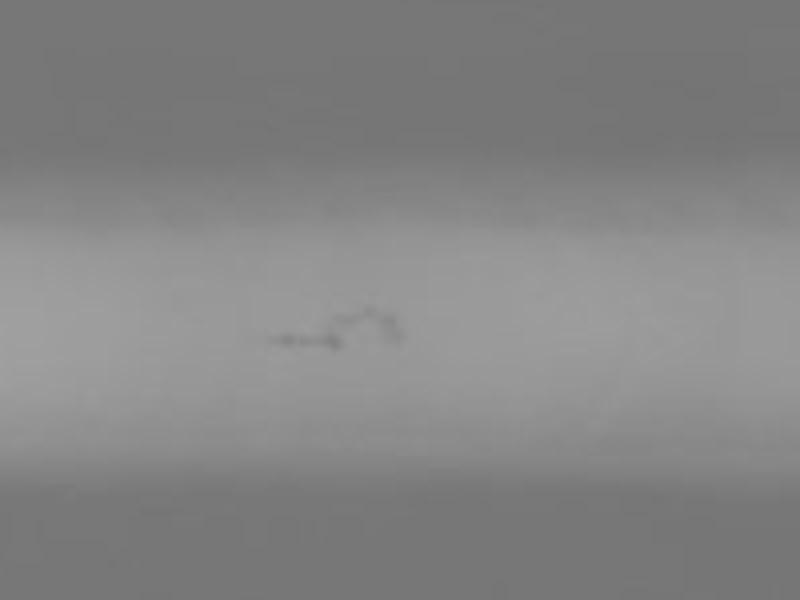defect: (375, 316, 409, 354), (270, 329, 316, 351), (330, 304, 375, 325), (318, 330, 345, 355)
